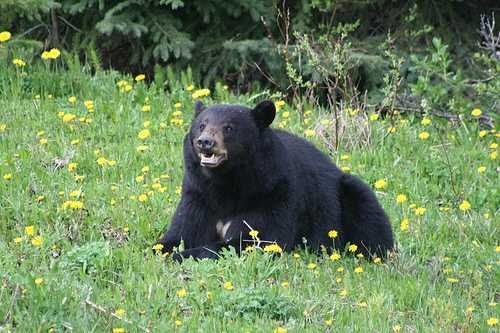bear: (181, 97, 309, 225)
